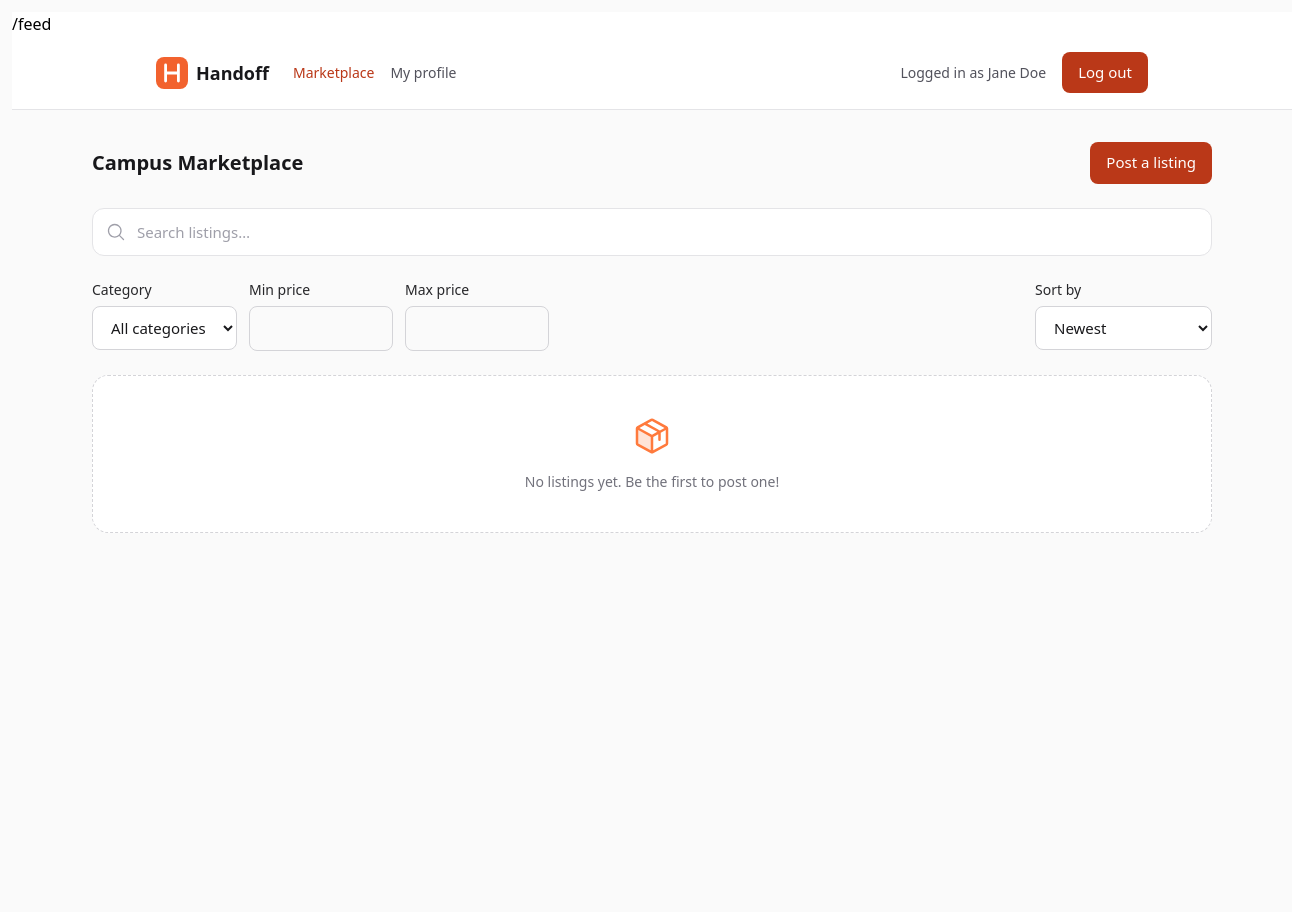
Scenario: FeedPage › typing a keyword updates the URL and searches
Type "chair" into the search field labelled "Search listings".
click(652, 232); type("chair")  # box [92,208,1212,256]
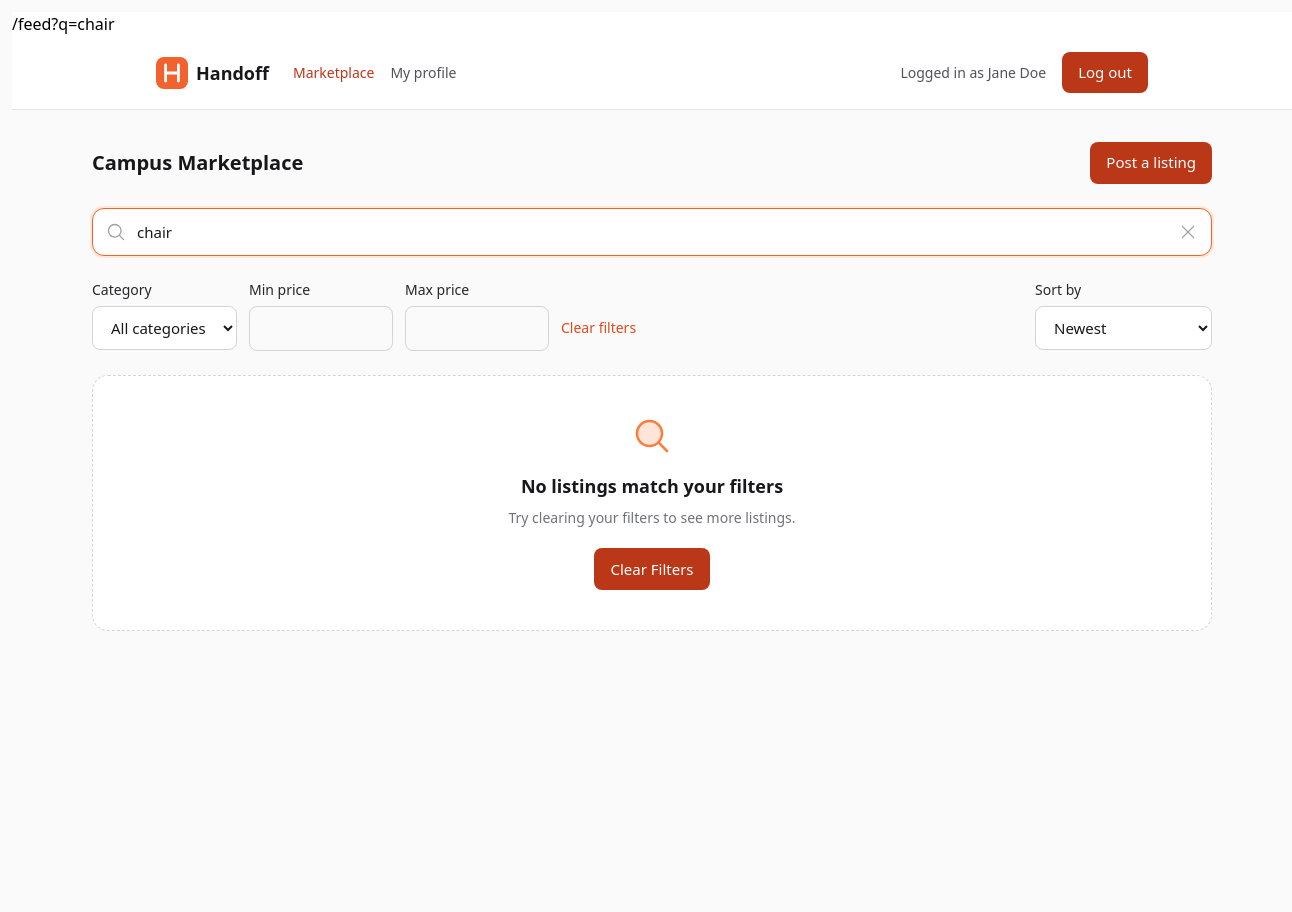
Expected: the text "/feed?q=chair" is shown, [12,13,115,35]
